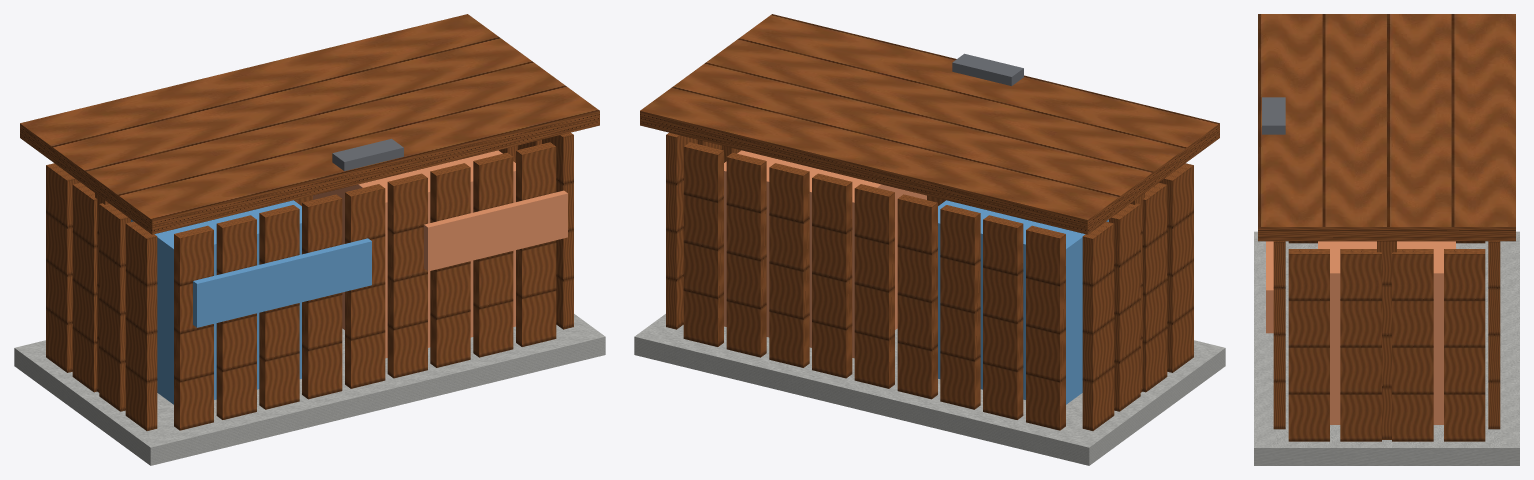
File: caravan-park-and-campsite-bin-and-recycling-store-beed8b68.glb
3 renders of one model, left to right at view 1: azimuth 30°, elevation 25°; view 2: azimuth 150°, elevation 25°; view 3: azimuth 270°, elevation 25°, orthographic. The views are drawn at different scales.
Visible parts, largest first — view 1: bin-and-recycling-store-timber, lid/timber, bin-and-recycling-store-hard, bin-and-recycling-store-azure, bin-and-recycling-store-flame, lid/charcoal; view 2: bin-and-recycling-store-timber, lid/timber, bin-and-recycling-store-hard, bin-and-recycling-store-azure, bin-and-recycling-store-flame, lid/charcoal; view 3: lid/timber, bin-and-recycling-store-timber, bin-and-recycling-store-hard, bin-and-recycling-store-flame, lid/charcoal.
Part boxes in pixels (bbox=[...]): bin-and-recycling-store-timber: bbox=[46, 132, 573, 430]; lid/timber: bbox=[20, 14, 599, 234]; bin-and-recycling-store-hard: bbox=[14, 314, 605, 465]; bin-and-recycling-store-azure: bbox=[131, 200, 371, 404]; bin-and-recycling-store-flame: bbox=[313, 150, 567, 358]; lid/charcoal: bbox=[332, 138, 403, 171]; bin-and-recycling-store-timber: bbox=[666, 132, 1193, 430]; lid/timber: bbox=[640, 14, 1219, 234]; bin-and-recycling-store-hard: bbox=[634, 314, 1225, 465]; bin-and-recycling-store-azure: bbox=[938, 200, 1108, 404]; bin-and-recycling-store-flame: bbox=[724, 150, 926, 358]; lid/charcoal: bbox=[952, 53, 1023, 86]; lid/timber: bbox=[1258, 14, 1515, 241]; bin-and-recycling-store-timber: bbox=[1273, 241, 1500, 441]; bin-and-recycling-store-hard: bbox=[1254, 231, 1519, 465]; bin-and-recycling-store-flame: bbox=[1266, 241, 1455, 424]; lid/charcoal: bbox=[1262, 97, 1285, 134].
Size of the model in its own units: 2.6 by 1.38 by 1.35.
5 materials, 2 textured.
